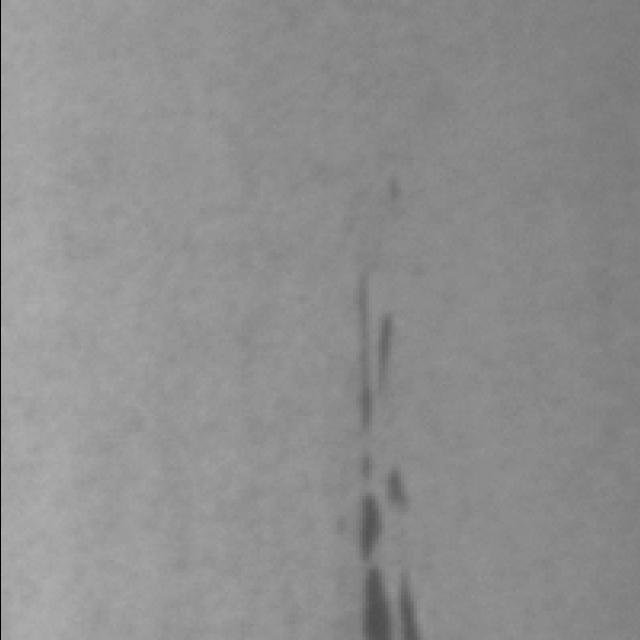inclusion: (331, 244, 424, 424), (328, 444, 438, 537), (330, 555, 450, 639), (358, 163, 428, 210)
